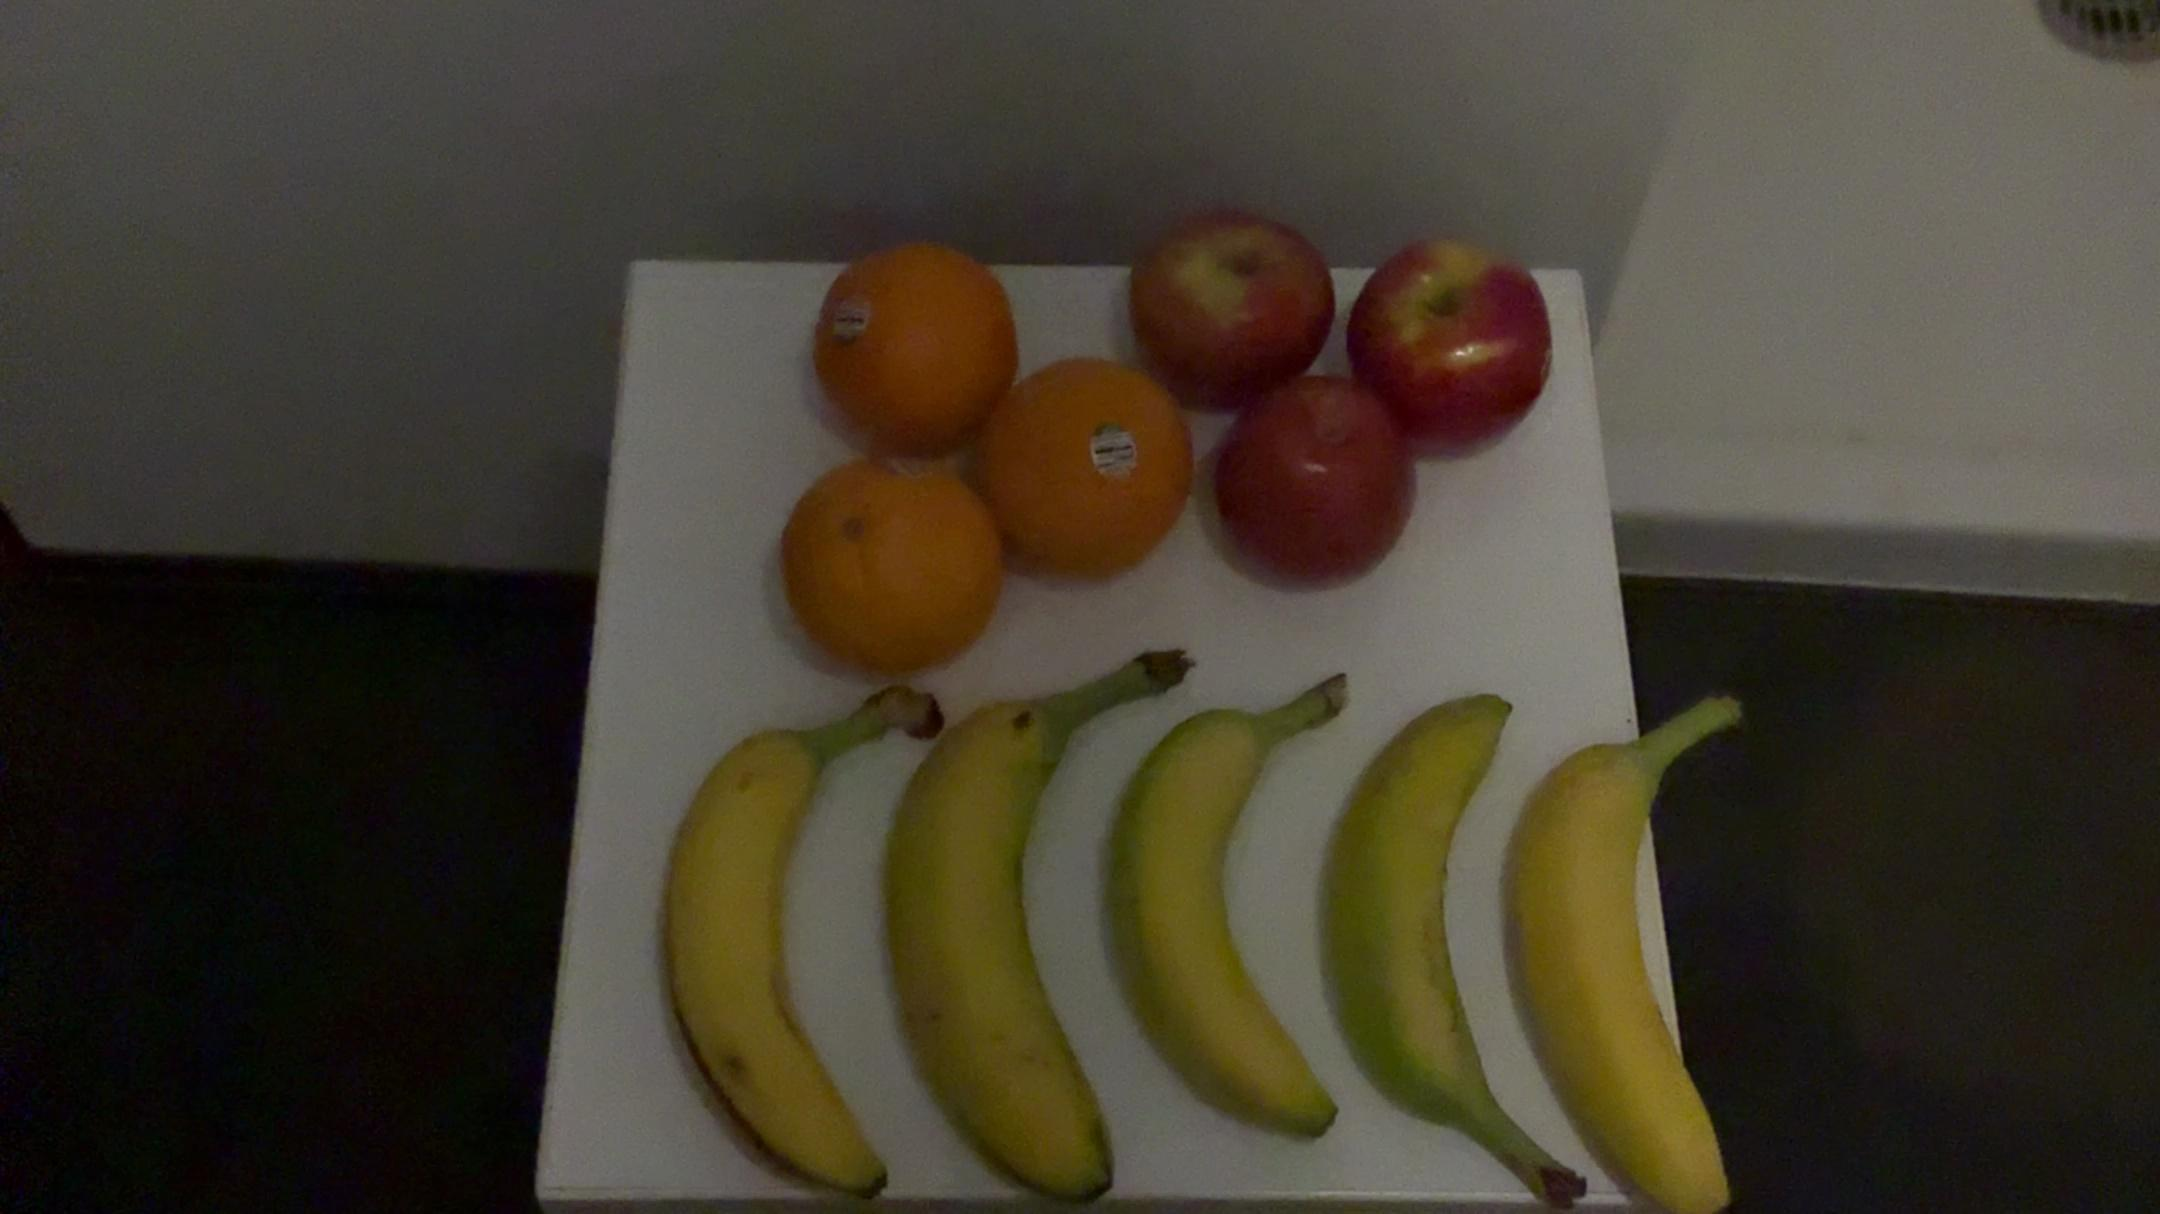apple: (1199, 364, 1420, 598), (1340, 227, 1553, 466), (1117, 197, 1331, 417)
banana: (863, 631, 1165, 1204), (1319, 669, 1596, 1214), (1495, 689, 1762, 1214), (668, 671, 915, 1207), (1105, 654, 1346, 1161)
orange: (964, 353, 1196, 601), (771, 450, 1010, 686), (800, 237, 1018, 462)
